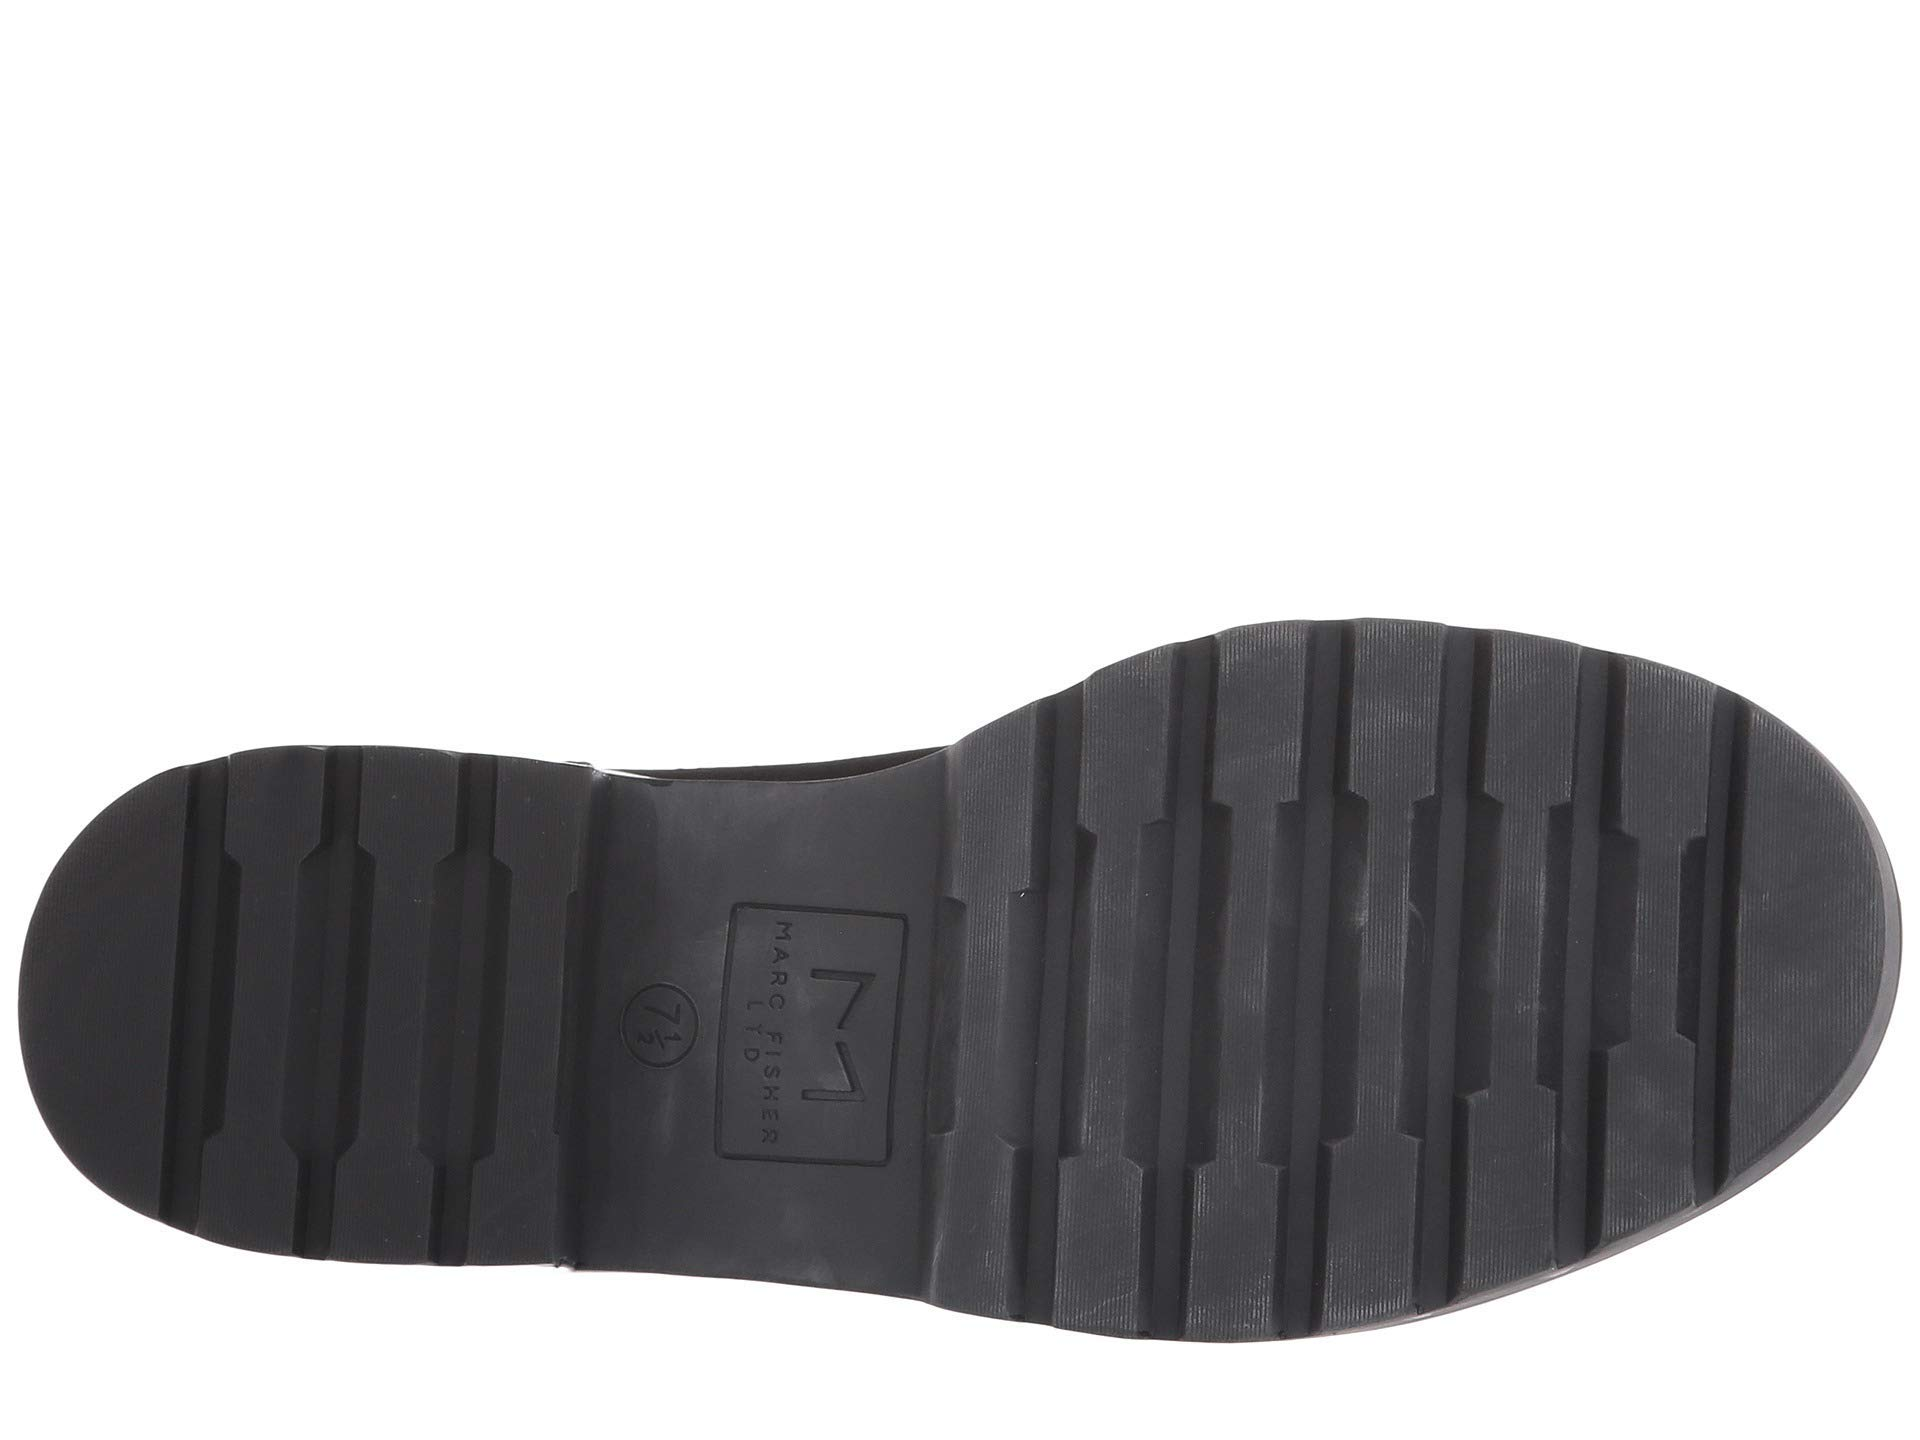bowtie: (1034, 561, 1761, 1305)
chevron: (582, 809, 960, 1213)
circle: (582, 809, 960, 1213)
quad: (582, 809, 960, 1213)
text: (582, 809, 960, 1213)
